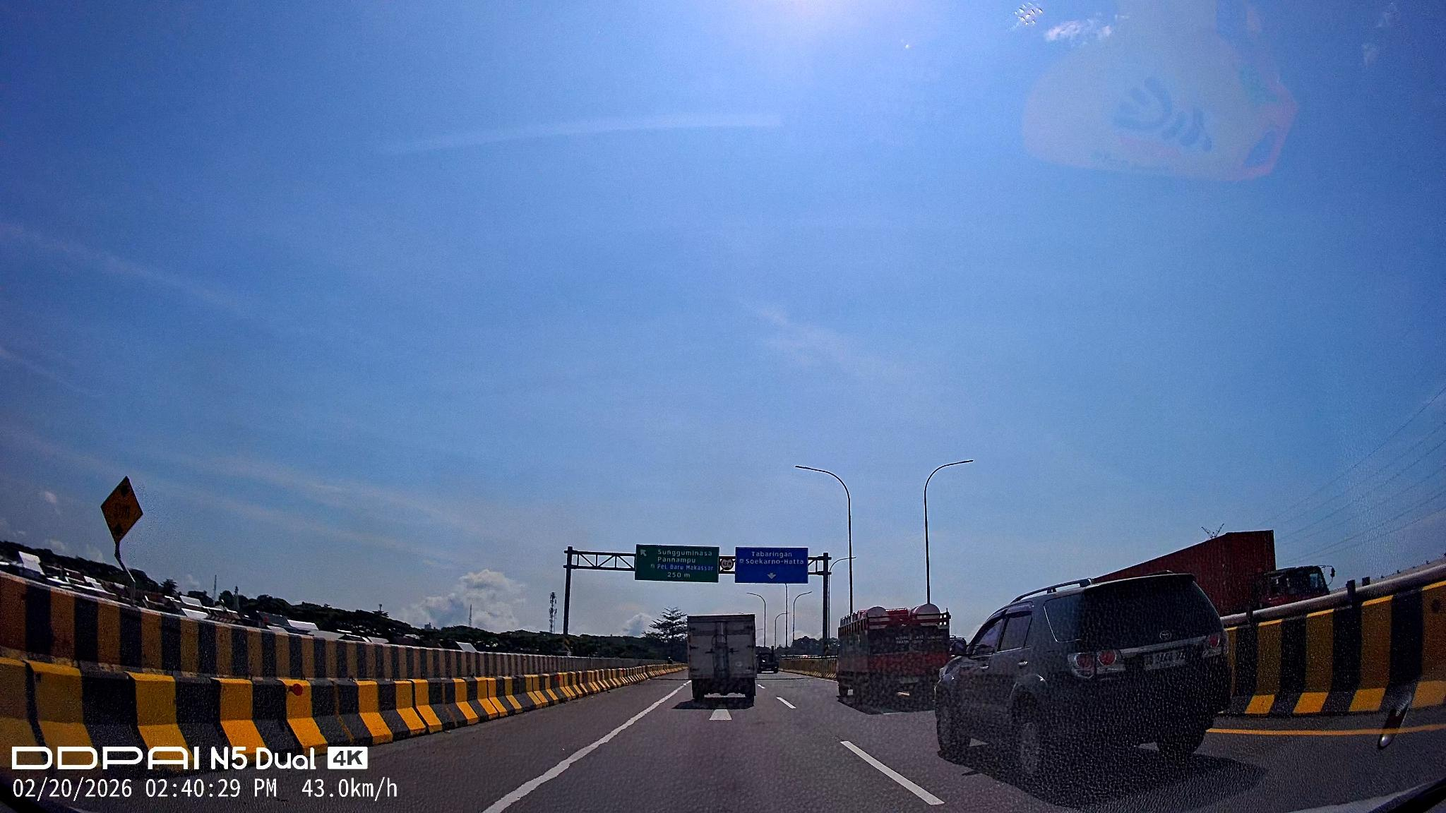rambu_teks: (635, 544, 719, 583), (735, 547, 809, 584)
